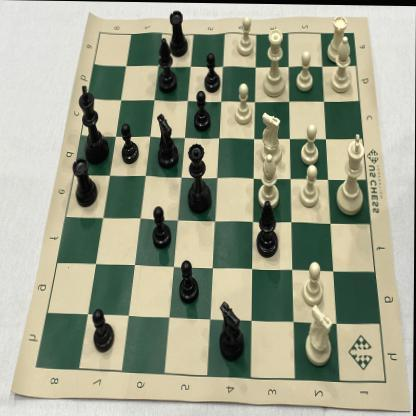black-bishop: (254, 196, 288, 259), (155, 33, 178, 97)
black-king: (76, 79, 111, 168)
black-pawn: (90, 305, 118, 356), (177, 254, 202, 307), (150, 202, 175, 251), (201, 47, 224, 94), (192, 84, 213, 134), (119, 120, 141, 167)
black-queen: (185, 140, 214, 215)
black-rook: (70, 154, 101, 212), (167, 8, 191, 60)
white-bishop: (254, 150, 283, 213), (329, 33, 356, 95)
white-king: (332, 127, 371, 218)
white-knight: (300, 303, 336, 368), (258, 107, 284, 164)
white-pawn: (301, 256, 329, 307), (297, 162, 323, 210), (298, 117, 322, 167), (232, 79, 256, 127), (294, 46, 317, 93), (235, 14, 256, 58)
white-queen: (260, 26, 290, 100)
white-rook: (324, 10, 350, 65)
